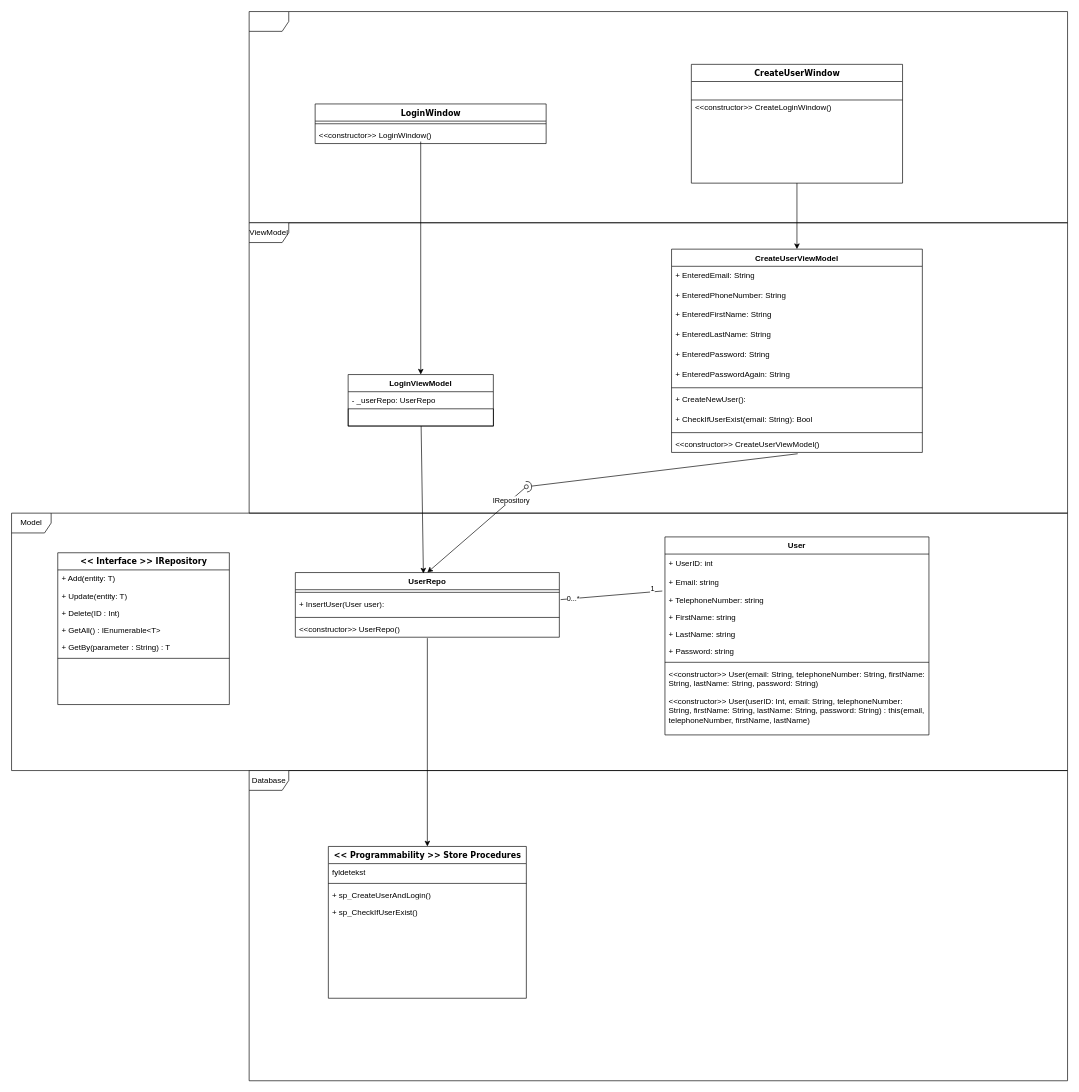
Image size: 1079x1092. Some labels were removed from this diagram. The shapes that lost their labels are listed below. From the top down, each one's centre as x and y in pixels, then its label:
the point at 658,117: View
the point at 420,417: <<constructor>> LoginViewModel
